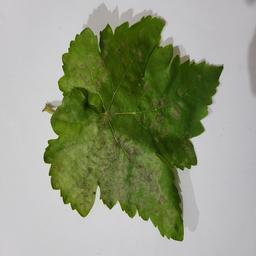Powdery-Mildew: (81, 130, 124, 197), (124, 145, 170, 203), (54, 148, 89, 201), (73, 50, 106, 88), (168, 98, 184, 114)
